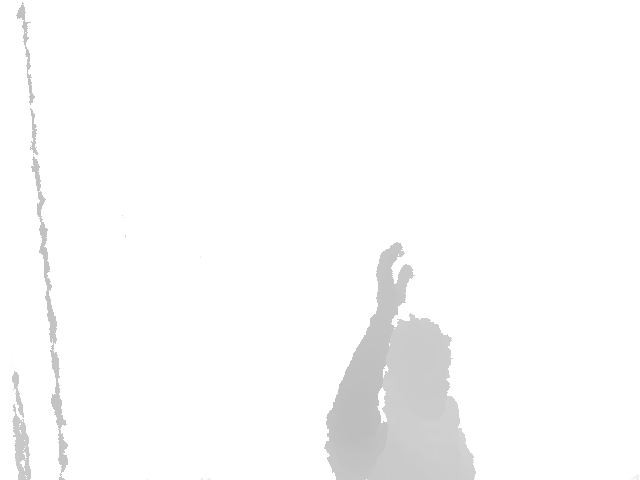hand: (375, 241, 414, 316)
head: (382, 319, 452, 426)
person: (323, 241, 477, 480)
